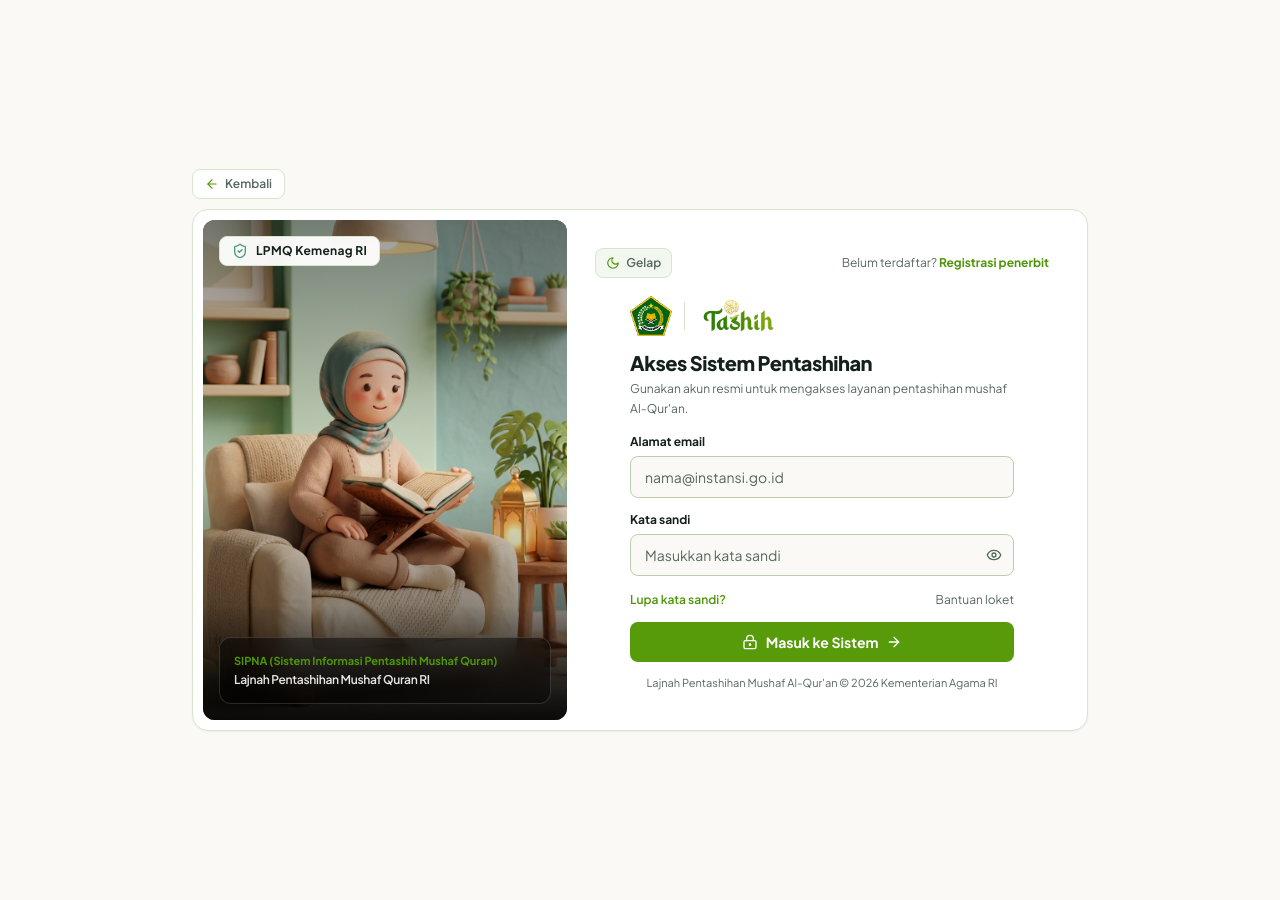
LoginPage Protected Area Verification › renders Lupa kata sandi button and opens ForgotPasswordModal
Click the button "Lupa kata sandi?" at (678, 600), box [630,592,726,608]
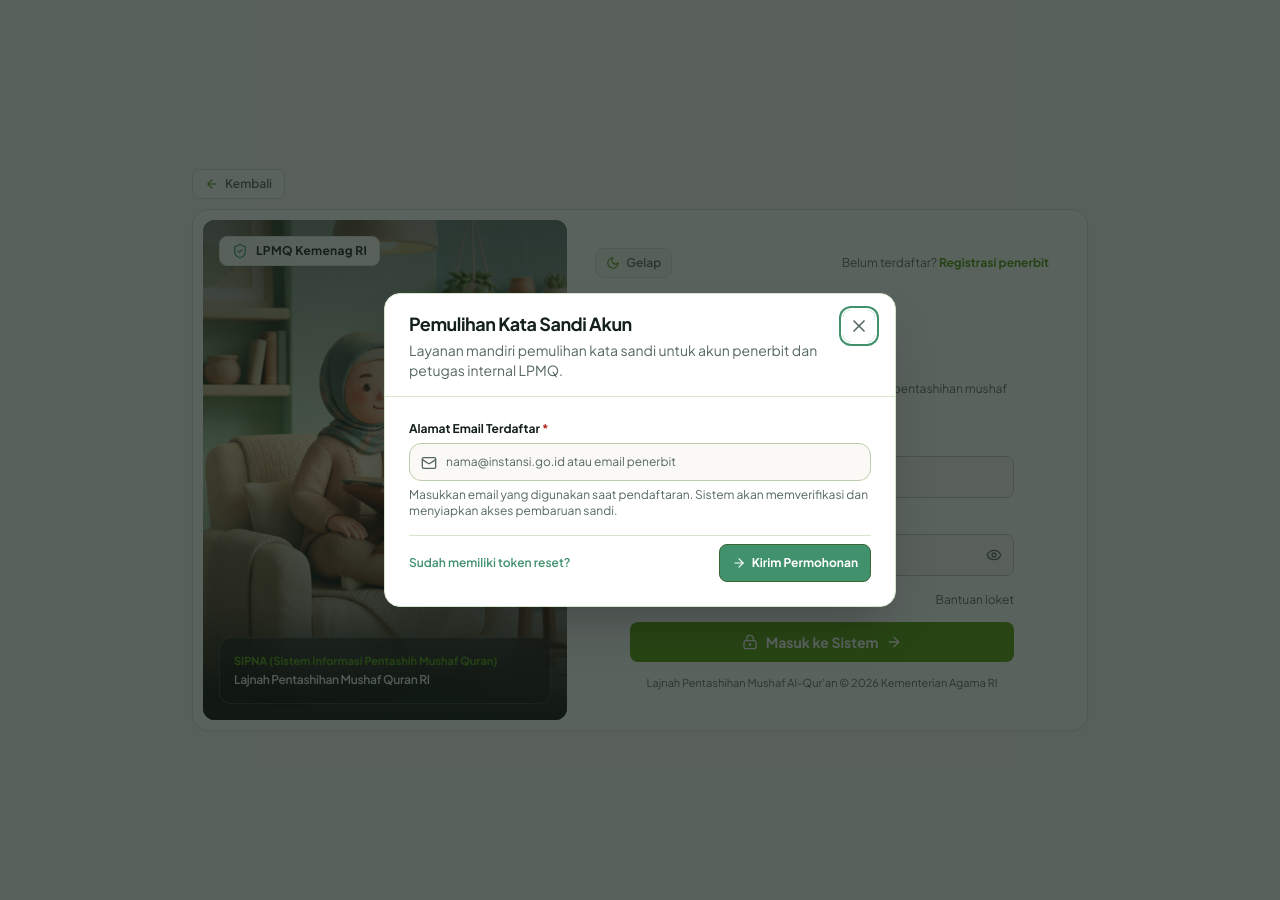
Now the heading "Pemulihan Kata Sandi Akun" is shown, box [409,312,632,335]
